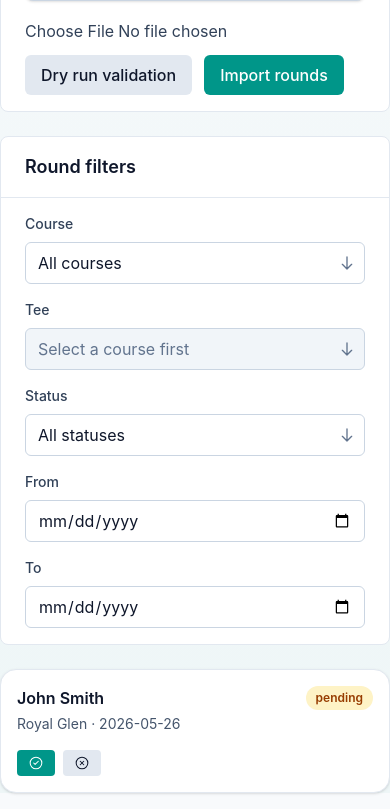
it: AdminRoundsPage › approves a round from the table
(page scrolled)
Click the button named "Approve round": (36, 763) left=17, top=750, right=55, bottom=776
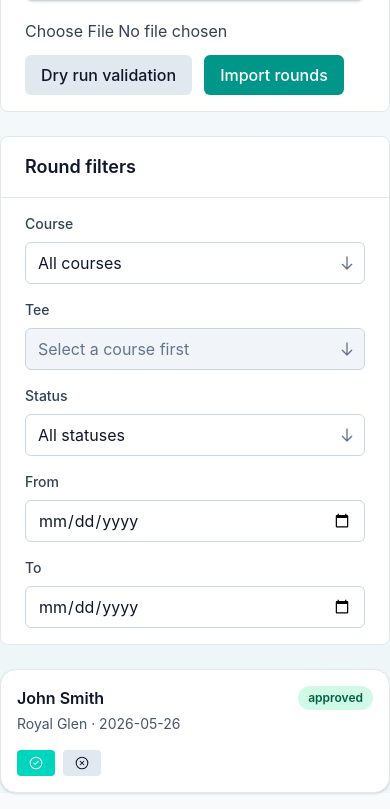
Now the text "approved" is shown, box left=298, top=686, right=373, bottom=710
